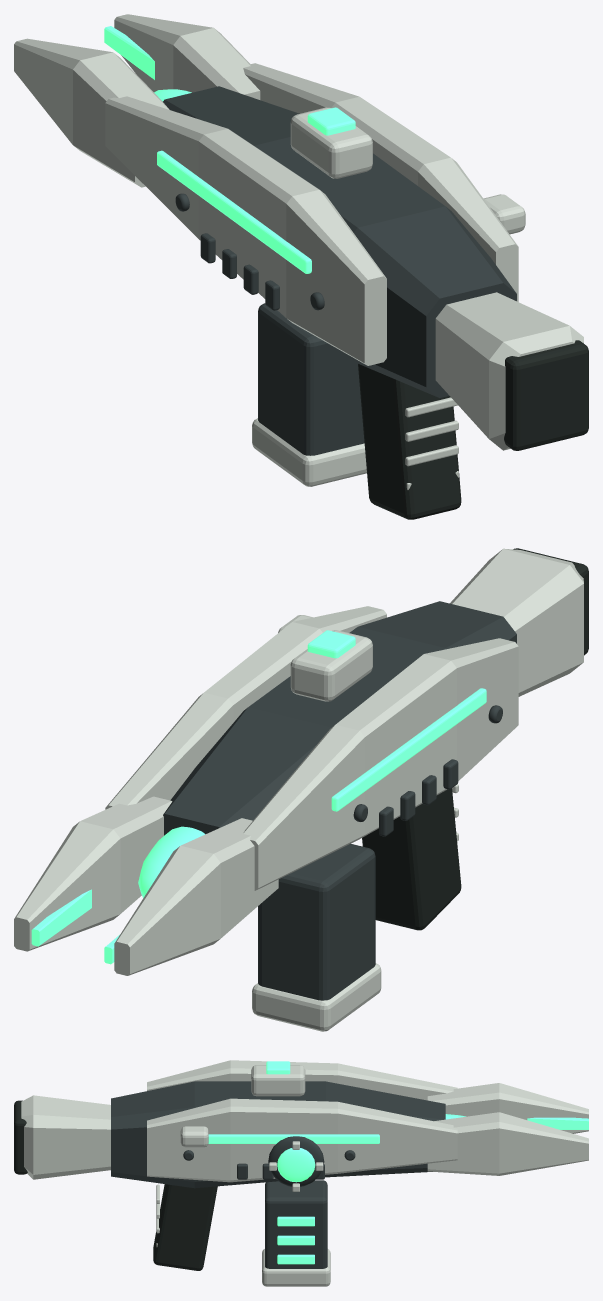
File: Reference_plasma_auto.glb
3 renders of one model, top to bottom at view 1: azimuth 30°, elevation 25°; view 2: azimuth 150°, elevation 25°; view 3: azimuth 270°, elevation 25°, orthographic. The views are drawn at different scales.
Visible parts, largest first — view 1: Body, ReloadMagazine_EnergyCell, ChargingHandle_Reference; view 2: Body, ReloadMagazine_EnergyCell; view 3: Body, ReloadMagazine_EnergyCell, ChargingHandle_Reference.
Boxes of the visible parts, x1,y1,x2,y2 form: Body: [14, 14, 588, 519]; ReloadMagazine_EnergyCell: [252, 303, 366, 486]; ChargingHandle_Reference: [483, 194, 525, 234]; Body: [14, 548, 588, 975]; ReloadMagazine_EnergyCell: [252, 843, 381, 1031]; Body: [14, 1060, 588, 1270]; ReloadMagazine_EnergyCell: [262, 1180, 330, 1286]; ChargingHandle_Reference: [180, 1126, 208, 1147].
Size of the model in its own units: 0.2405 by 0.3915 by 0.9625.
